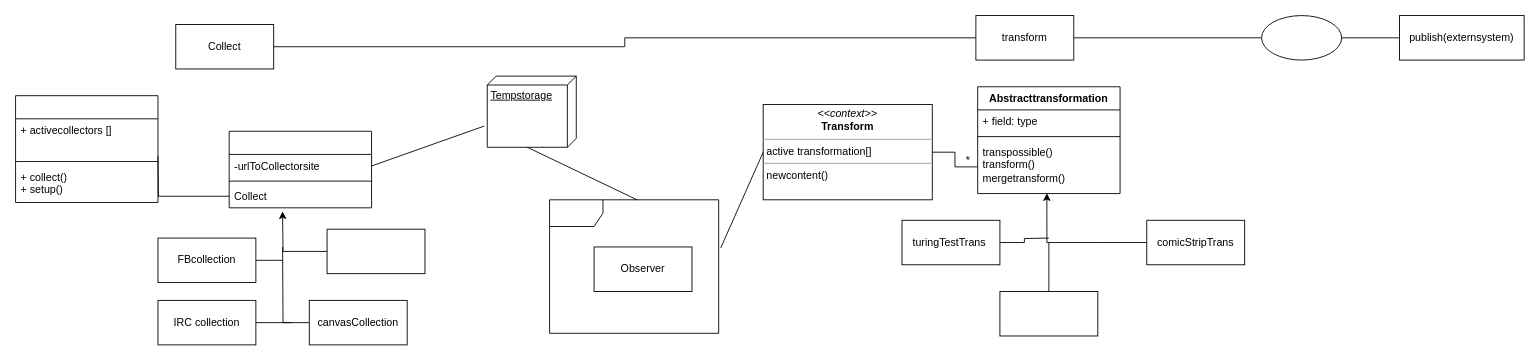
Image size: 1540x360. Some labels were removed from this diagram. The box of each missing label's shape, as (x1, y1, x2, y2) in pixels:
abstractcollector: (228, 130, 372, 208)
collector (context): (15, 95, 158, 202)
Database: (1261, 15, 1342, 60)
frame: (549, 199, 719, 333)
submitTrans: (999, 291, 1098, 336)
Xittercollection: (326, 228, 425, 274)
